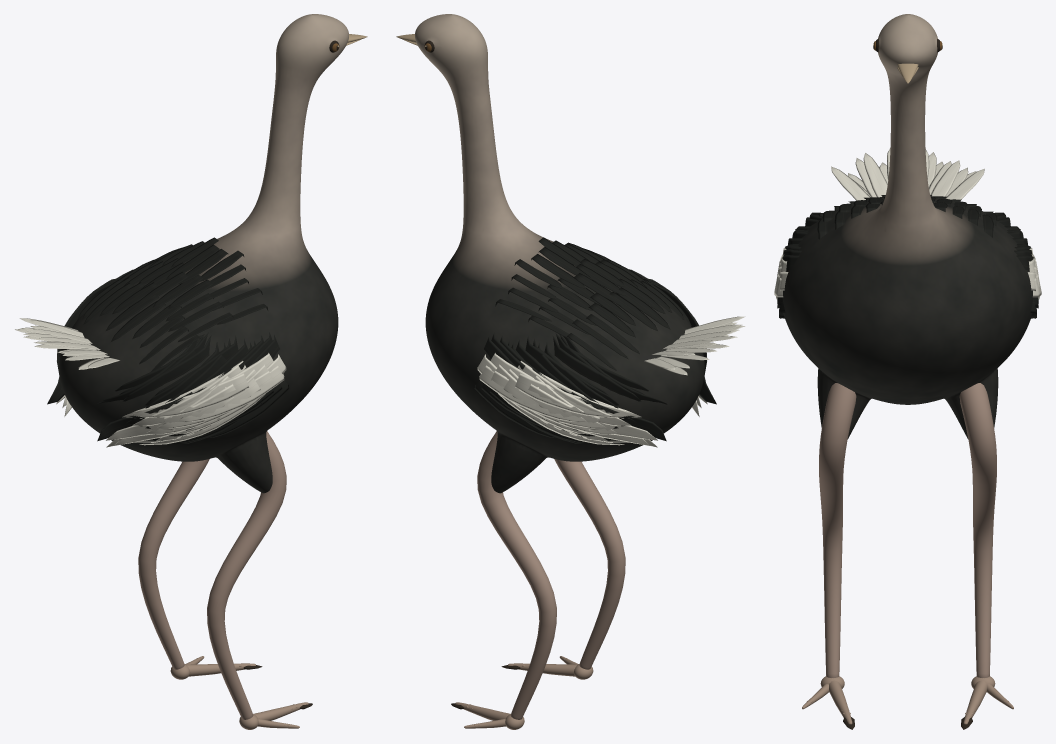
File: ostrich.glb
3 renders of one model, left to right at view 1: azimuth 30°, elevation 25°; view 2: azimuth 150°, elevation 25°; view 3: azimuth 270°, elevation 25°, orthographic. The views are drawn at different scales.
Parts seen in each view (by area): view 1: Continuous anatomical skin | ostrich, Ostrich long tibiotarsus hock and tarsometatarsus, Ostrich long tibiotarsus hock and tarsometatarsus.001, Ostrich staggered loose white wing plume.009, Ostrich staggered loose white wing plume.011, Ostrich staggered loose white wing plume.001, Ostrich slender overlapping body plume.010, Ostrich staggered loose white wing plume.010, Ostrich staggered loose white wing plume.007, Ostrich slender overlapping body plume.014; view 2: Continuous anatomical skin | ostrich, Ostrich long tibiotarsus hock and tarsometatarsus.001, Ostrich long tibiotarsus hock and tarsometatarsus, Ostrich staggered loose white wing plume.023, Ostrich staggered loose white wing plume.025, Ostrich staggered loose white wing plume.015, Ostrich slender overlapping body plume.038, Ostrich staggered loose white wing plume.024, Ostrich staggered loose white wing plume.021, Ostrich slender overlapping body plume.042, Ostrich staggered loose white wing plume.027; view 3: Continuous anatomical skin | ostrich, Ostrich long tibiotarsus hock and tarsometatarsus, Ostrich long tibiotarsus hock and tarsometatarsus.001, Ostrich loose rounded raised tail plume.004, Ostrich loose rounded raised tail plume.015, Ostrich loose rounded raised tail plume, Large inner ostrich toe, Large inner ostrich toe.001, Ostrich loose rounded raised tail plume.018.
Part boxes in pixels (x1,y1,x2,y2): Continuous anatomical skin | ostrich: [59, 14, 348, 493]; Ostrich long tibiotarsus hock and tarsometatarsus: [207, 431, 286, 719]; Ostrich long tibiotarsus hock and tarsometatarsus.001: [138, 459, 209, 669]; Ostrich staggered loose white wing plume.009: [130, 373, 248, 417]; Ostrich staggered loose white wing plume.011: [106, 384, 235, 440]; Ostrich staggered loose white wing plume.001: [177, 365, 284, 421]; Ostrich slender overlapping body plume.010: [119, 335, 211, 394]; Ostrich staggered loose white wing plume.010: [132, 365, 241, 425]; Ostrich staggered loose white wing plume.007: [145, 378, 260, 434]; Ostrich slender overlapping body plume.014: [207, 380, 289, 437]; Continuous anatomical skin | ostrich: [415, 14, 704, 493]; Ostrich long tibiotarsus hock and tarsometatarsus.001: [477, 431, 556, 719]; Ostrich long tibiotarsus hock and tarsometatarsus: [554, 459, 625, 669]; Ostrich staggered loose white wing plume.023: [515, 373, 633, 417]; Ostrich staggered loose white wing plume.025: [528, 384, 657, 440]; Ostrich staggered loose white wing plume.015: [479, 365, 586, 421]; Ostrich slender overlapping body plume.038: [552, 335, 644, 394]; Ostrich staggered loose white wing plume.024: [522, 365, 631, 425]; Ostrich staggered loose white wing plume.021: [503, 378, 618, 434]; Ostrich slender overlapping body plume.042: [474, 380, 556, 437]; Ostrich staggered loose white wing plume.027: [530, 387, 649, 445]; Continuous anatomical skin | ostrich: [782, 14, 1033, 438]; Ostrich long tibiotarsus hock and tarsometatarsus: [819, 383, 856, 677]; Ostrich long tibiotarsus hock and tarsometatarsus.001: [959, 383, 996, 677]; Ostrich loose rounded raised tail plume.004: [863, 153, 887, 197]; Ostrich loose rounded raised tail plume.015: [930, 160, 960, 196]; Ostrich loose rounded raised tail plume: [831, 166, 870, 200]; Large inner ostrich toe: [829, 680, 852, 724]; Large inner ostrich toe.001: [963, 680, 986, 724]; Ostrich loose rounded raised tail plume.018: [945, 168, 984, 199].
Bounding box in the file's own units: 1.28 × 2.4 × 0.8004.
Materials: 11 (11 with a texture image).
